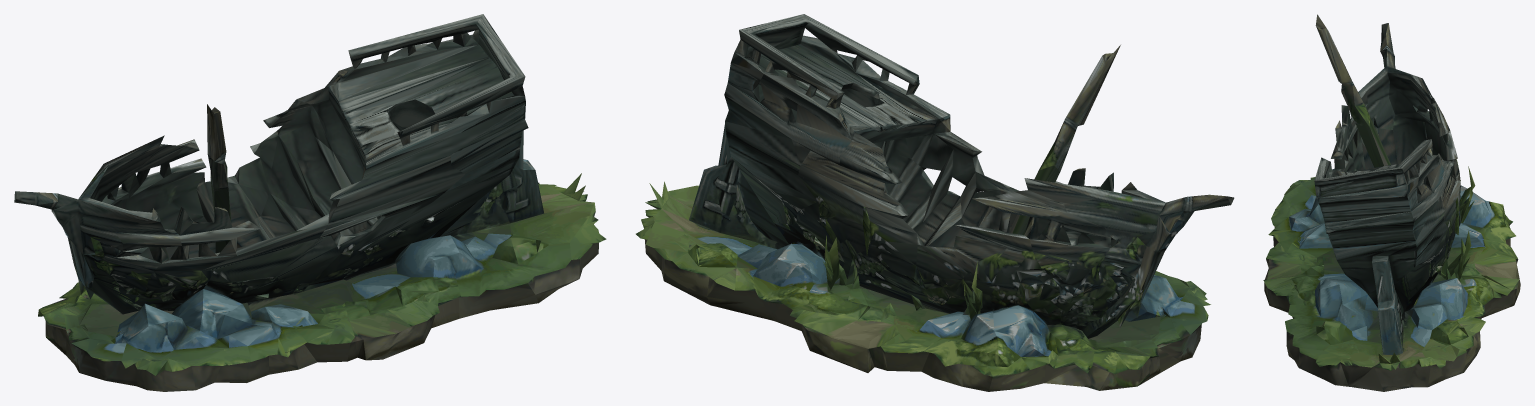
3 views of the same model, side by side, from view 1: azimuth 30°, elevation 25°; view 2: azimuth 150°, elevation 25°; view 3: azimuth 270°, elevation 25° (orthographic). The views are drawn at different scales.
Parts seen in each view (by area): view 1: shipwreck; view 2: shipwreck; view 3: shipwreck.
Part boxes in pixels (<box>): shipwreck: <box>14,14,606,391</box>; shipwreck: <box>636,14,1234,391</box>; shipwreck: <box>1263,14,1520,391</box>.
Size of the model in its own units: 0.9776 by 0.4343 by 0.4601.
1 material, 1 textured.
